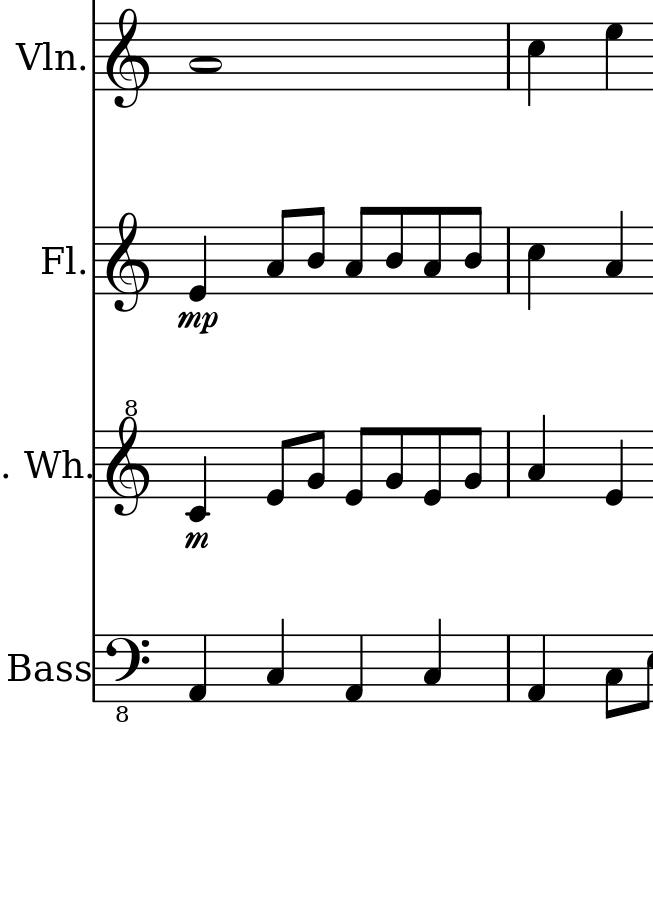1_3: (190, 19, 225, 93)
4_-2: (189, 429, 211, 524)
4_0: (188, 225, 211, 304), (605, 429, 626, 508)
4_1: (187, 633, 209, 703), (343, 633, 365, 702), (528, 634, 547, 703)
4_3: (604, 208, 627, 297), (527, 412, 548, 500), (423, 618, 444, 705), (266, 617, 287, 703)
4_5: (525, 223, 550, 313), (525, 20, 548, 107)
4_7: (605, 21, 627, 93)
8_0: (265, 429, 293, 510), (345, 426, 371, 508), (422, 425, 445, 508)
8_2: (384, 425, 406, 500), (464, 425, 483, 501), (307, 430, 327, 500)
8_3: (266, 206, 294, 297), (345, 205, 371, 298), (424, 204, 444, 299), (605, 632, 623, 721)
8_4: (305, 206, 327, 299), (463, 205, 484, 298), (386, 204, 405, 298)
Bass: (6, 647, 93, 690)
Fl: (38, 235, 80, 285)
Gclef: (105, 206, 160, 322), (105, 6, 150, 109)
High_Gclef: (107, 398, 150, 519)
Lower_Fclef: (104, 633, 150, 723)
Single_barline: (84, 22, 106, 91), (498, 22, 520, 90), (496, 227, 519, 292), (498, 431, 519, 498), (497, 635, 518, 700), (86, 634, 106, 702), (87, 431, 104, 497), (88, 225, 103, 294)
Vln: (14, 33, 77, 82)
Wh: (22, 443, 83, 488)
m: (181, 527, 211, 553)
mp: (176, 304, 220, 340)
